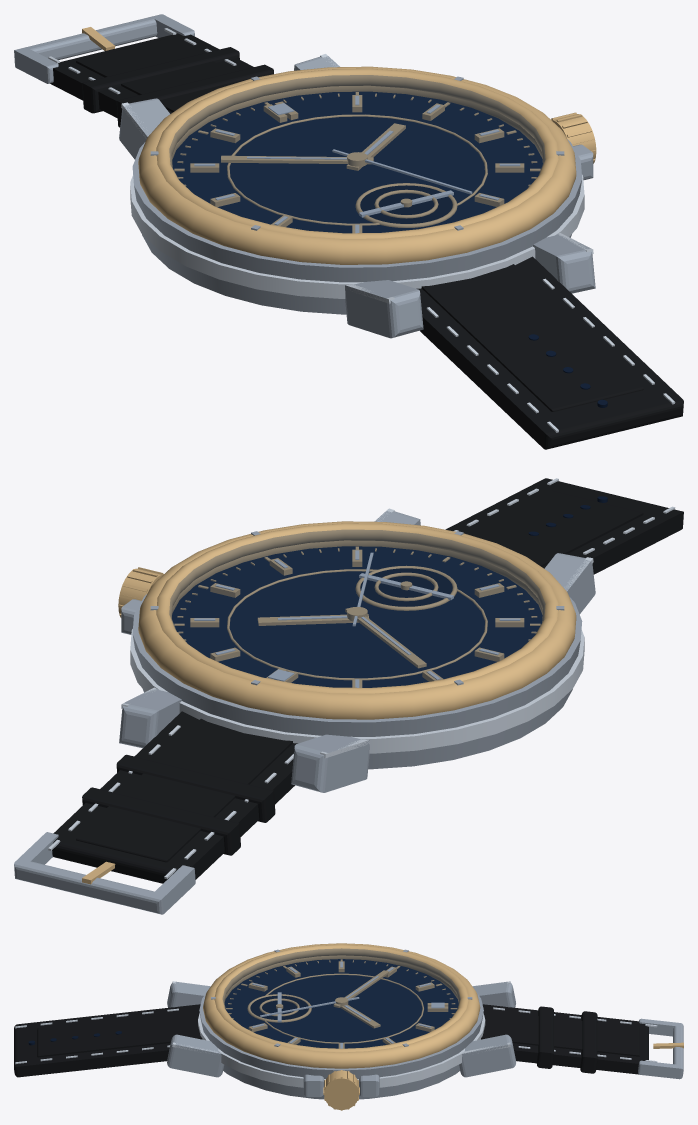
Rendered from chronos_tourbillon_watch.glb.
The picture shows the model from 3 angles, top to bottom: view 1: azimuth 30°, elevation 25°; view 2: azimuth 150°, elevation 25°; view 3: azimuth 270°, elevation 25°; orthographic projection. The views are drawn at different scales.
Parts seen in each view (by area): view 1: GTEX_Chronos_Tourbillon_Watch, object 4; view 2: GTEX_Chronos_Tourbillon_Watch, object 2, object 4; view 3: GTEX_Chronos_Tourbillon_Watch, object 4.
Part boxes in pixels (x1,y1,x2,y2): GTEX_Chronos_Tourbillon_Watch: [14, 14, 683, 449]; object 4: [221, 155, 373, 164]; GTEX_Chronos_Tourbillon_Watch: [14, 478, 683, 914]; object 2: [257, 614, 369, 625]; object 4: [345, 607, 426, 668]; GTEX_Chronos_Tourbillon_Watch: [14, 943, 683, 1110]; object 4: [333, 970, 389, 1007].
Bounding box in the file's own units: 4.22 × 0.896 × 9.18.
